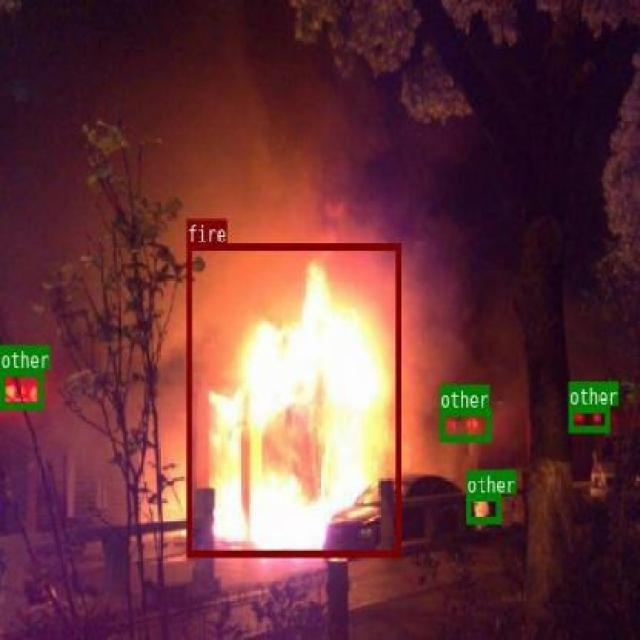fire: (186, 242, 400, 556)
